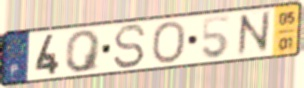4: (33, 32, 62, 77)
5: (201, 13, 232, 62)
N: (236, 8, 271, 59)
O: (150, 19, 188, 66)
Q: (64, 28, 103, 75)
S: (112, 23, 148, 70)
